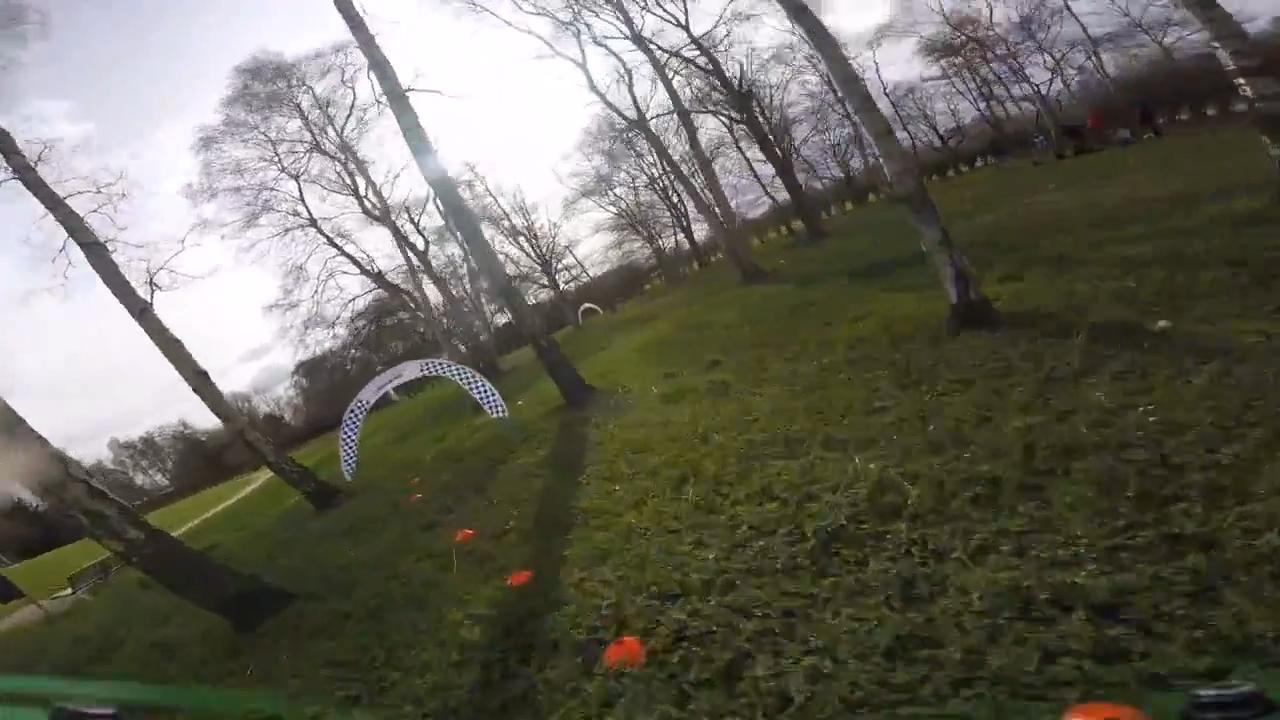gate: (334, 358, 511, 484)
